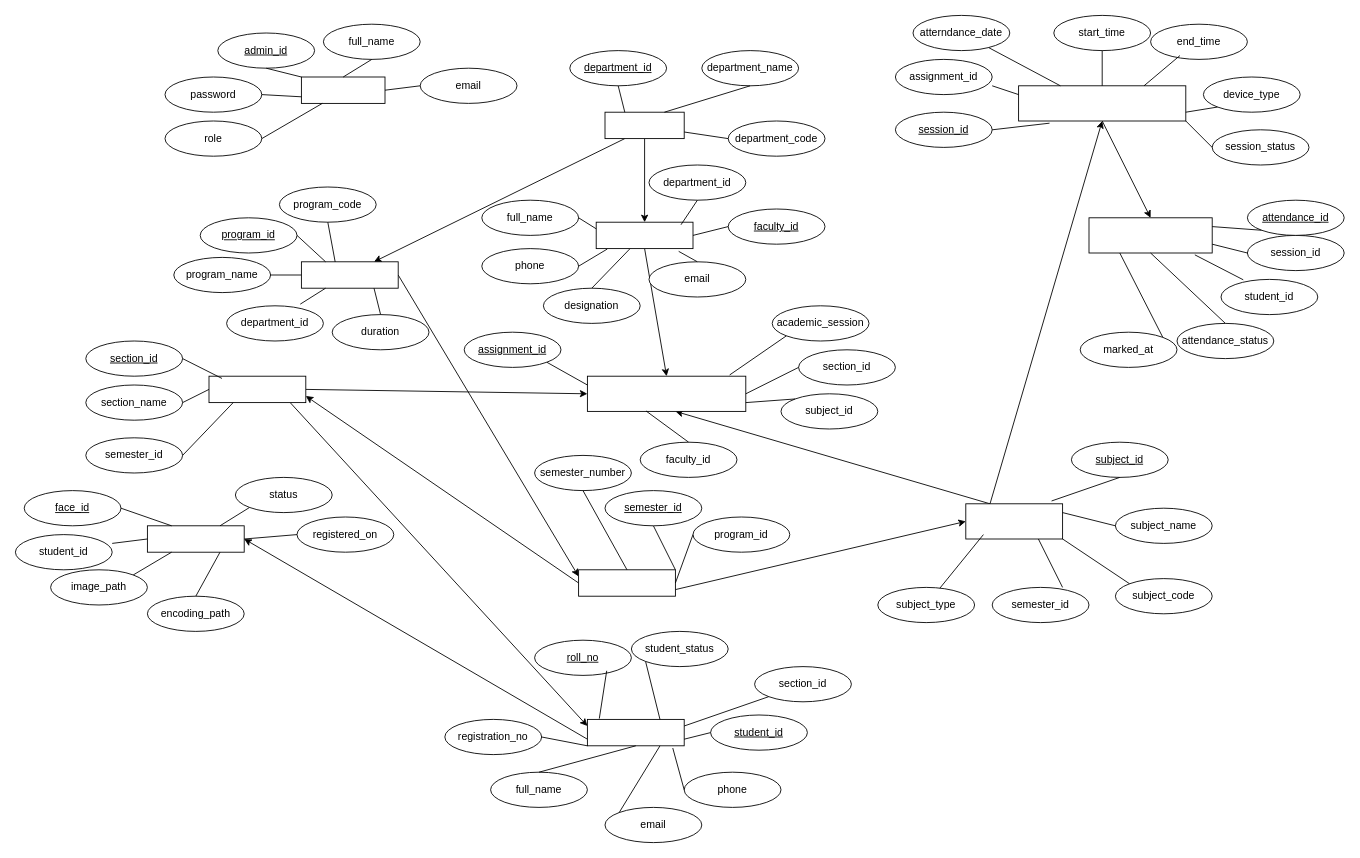
The diagram is 1360 pixels wide and 858 high, and some of its shapes have lost their labels. Each missing label, with the box of its shape:
ADMIN: (301, 76, 385, 103)
ATTENDANCE: (1088, 217, 1212, 253)
ATTENDANCE_SESSION: (1018, 85, 1186, 121)
DEPARTMENT: (604, 111, 684, 139)
FACE_DATA: (147, 525, 244, 552)
FACULTY: (595, 221, 693, 249)
FACULTY_ASSIGNMENT: (587, 375, 746, 411)
PROGRAM: (301, 261, 398, 288)
SECTION: (208, 375, 306, 403)
SEMESTER: (578, 569, 675, 596)
STUDENT: (587, 719, 684, 746)
SUBJECT: (965, 503, 1063, 539)
